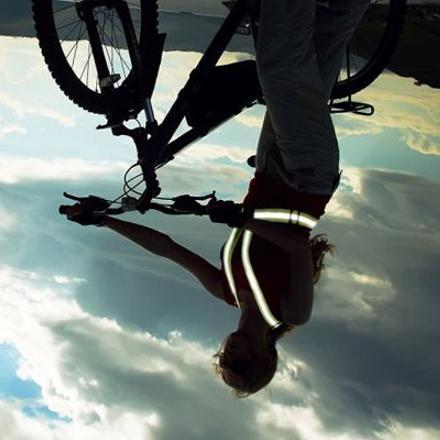Vest: (215, 209, 319, 338)
